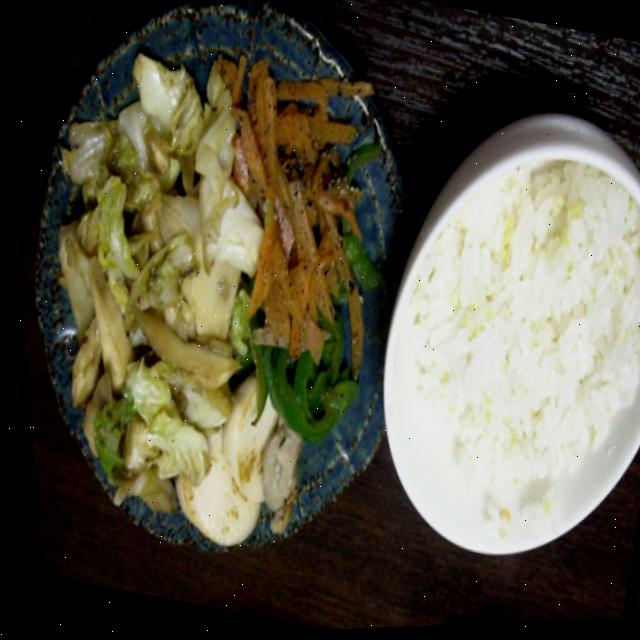蔬菜料理: (17, 36, 407, 516)
